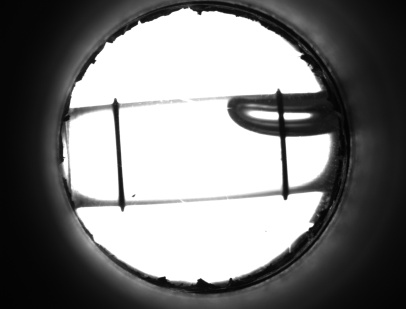line: (109, 120, 130, 191), (276, 144, 294, 183)
